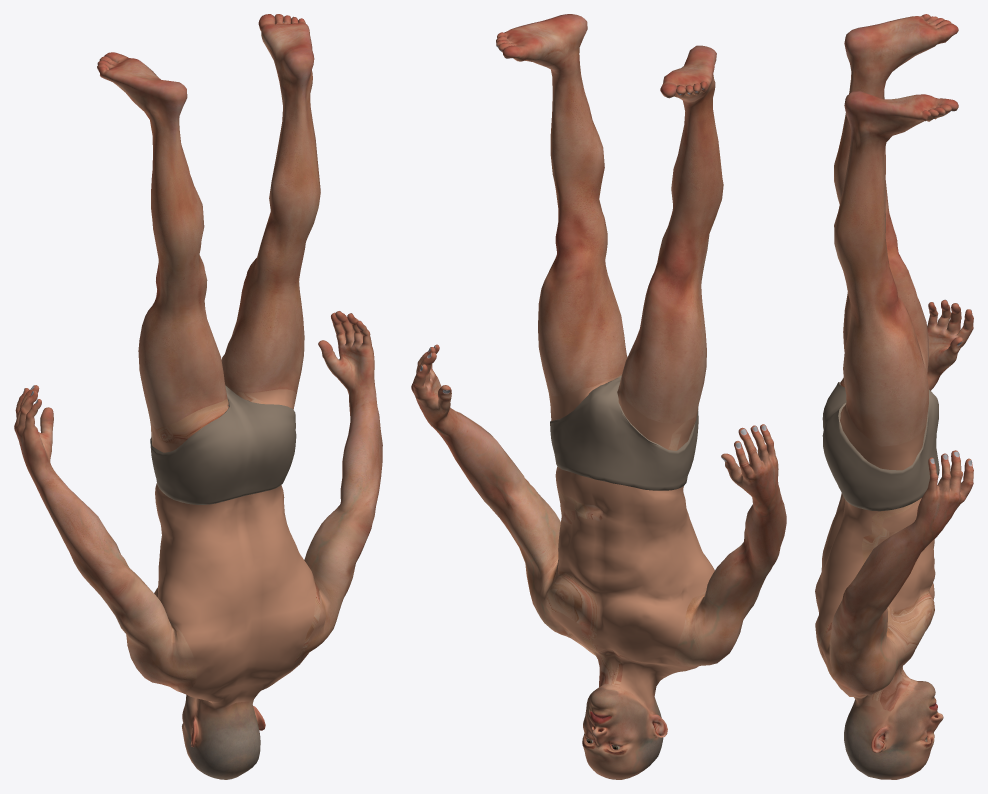
Rendered from test_humn_body.glb.
3 views of the same model, side by side, from view 1: azimuth 30°, elevation 25°; view 2: azimuth 150°, elevation 25°; view 3: azimuth 270°, elevation 25° (orthographic). The views are drawn at different scales.
Visible parts, largest first — view 1: Legs, punsh, arm, Object_10, head, Object_12; view 2: Legs, punsh, arm, Object_10, head, Object_12; view 3: Legs, arm, punsh, head, Object_10, Object_12.
Part boxes in pixels (x1,y1,x2,y2): Legs: (97,14,320,428); punsh: (150,383,316,708); arm: (14,311,382,693); Object_10: (150,385,296,504); head: (182,695,265,779); Object_12: (150,391,320,663); Legs: (496,14,723,423); punsh: (549,374,714,704); arm: (411,344,786,668); Object_10: (550,375,698,490); head: (582,683,667,779); Object_12: (546,405,698,686); Legs: (834,14,958,446); arm: (820,300,973,697); punsh: (815,402,935,712); head: (844,678,943,779); Object_10: (822,382,939,511); Object_12: (818,378,934,711).
Size of the model in its own units: 88.22 by 173 by 34.87.
8 materials, 7 textured.
